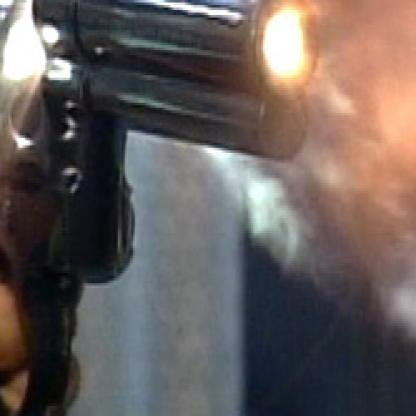gun: (0, 0, 337, 414)
